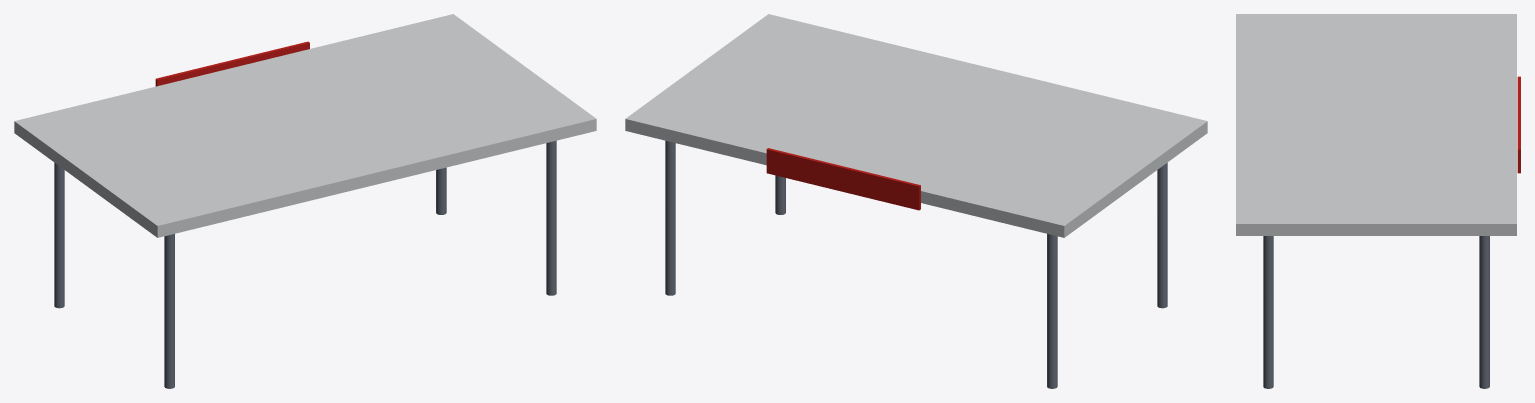
The model's file is hospital.site.ambulance_canopy.glb.
3 views of the same model, side by side, from view 1: azimuth 30°, elevation 25°; view 2: azimuth 150°, elevation 25°; view 3: azimuth 270°, elevation 25° (orthographic).
Visible parts, largest first — view 1: main__aluminium, main__steel_painted, main__hazard_red; view 2: main__aluminium, main__steel_painted, main__hazard_red; view 3: main__aluminium, main__steel_painted, main__hazard_red.
Part boxes in pixels (left/top/right/bottom): main__aluminium: left=14, top=14, right=596, bottom=237; main__steel_painted: left=54, top=140, right=556, bottom=388; main__hazard_red: left=155, top=41, right=309, bottom=86; main__aluminium: left=625, top=14, right=1207, bottom=237; main__steel_painted: left=665, top=140, right=1167, bottom=388; main__hazard_red: left=766, top=148, right=920, bottom=210; main__aluminium: left=1236, top=14, right=1516, bottom=235; main__steel_painted: left=1263, top=236, right=1489, bottom=388; main__hazard_red: left=1517, top=76, right=1520, bottom=173.
Size of the model in its own units: 11.5 by 4.65 by 6.59.
